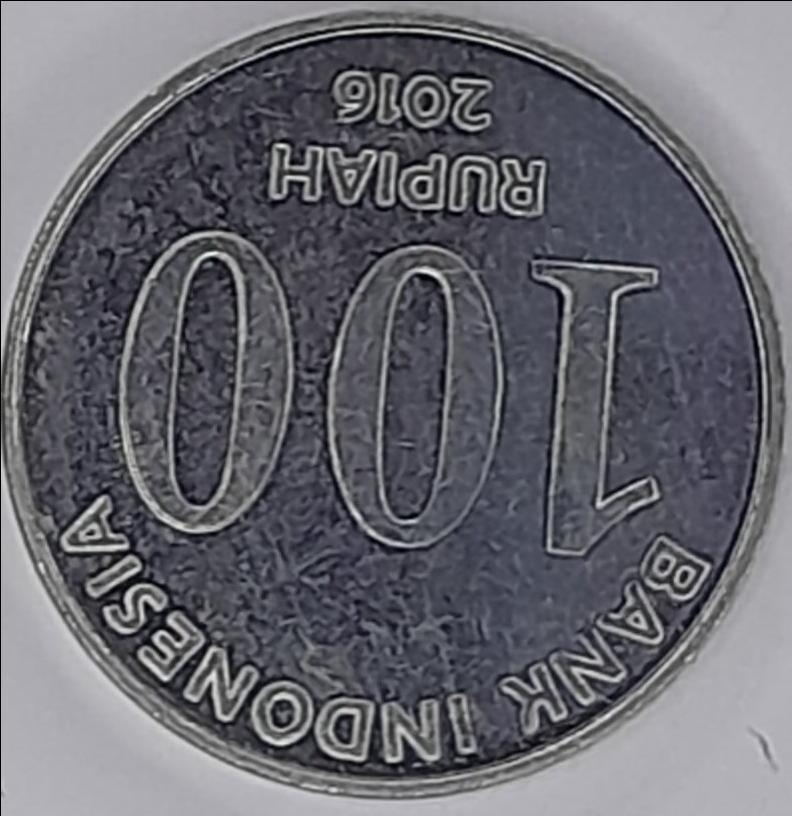coin_100_e2016: (0, 2, 791, 800)
